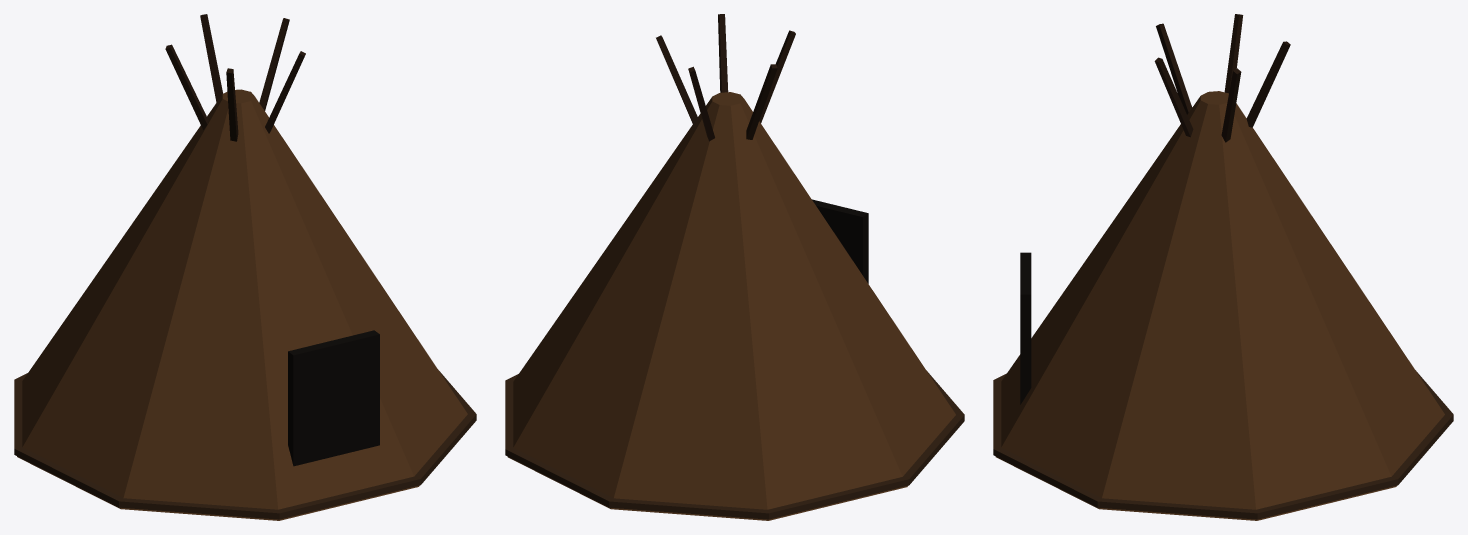
Rendered from tent.fbx.
3 renders of one model, left to right at view 1: azimuth 30°, elevation 25°; view 2: azimuth 150°, elevation 25°; view 3: azimuth 270°, elevation 25°, orthographic.
Parts seen in each view (by area): view 1: tent; view 2: tent; view 3: tent.
Part boxes in pixels (x1,y1,x2,y2): tent: [14, 14, 476, 520]; tent: [505, 14, 964, 520]; tent: [993, 14, 1453, 520].
Bounding box in the file's own units: 3.39 × 3.05 × 3.34.
